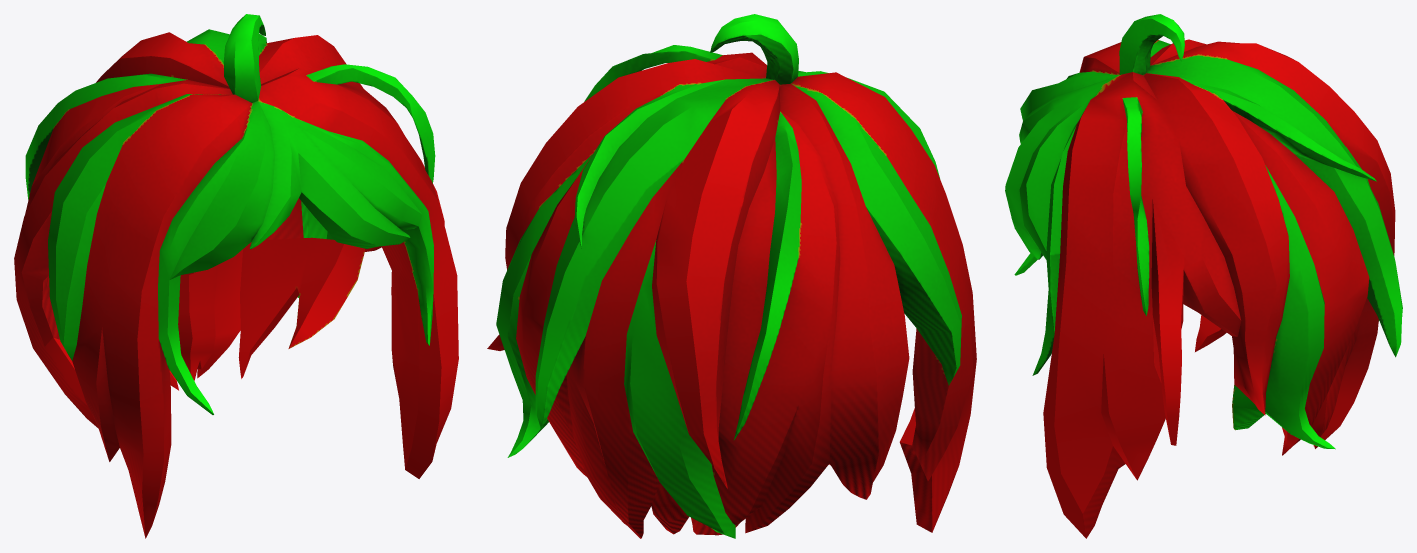
File: SM_Player_Hair_GirlManga.glb
3 renders of one model, left to right at view 1: azimuth 30°, elevation 25°; view 2: azimuth 150°, elevation 25°; view 3: azimuth 270°, elevation 25°, orthographic. The views are drawn at different scales.
Visible parts, largest first — view 1: SM_Player_Hair_GirlManga; view 2: SM_Player_Hair_GirlManga; view 3: SM_Player_Hair_GirlManga.
Boxes of the visible parts, bbox=[...] form: SM_Player_Hair_GirlManga: bbox=[14, 14, 458, 538]; SM_Player_Hair_GirlManga: bbox=[487, 14, 976, 538]; SM_Player_Hair_GirlManga: bbox=[1005, 14, 1402, 538].
Size of the model in its own units: 0.4817 by 0.5488 by 0.4325.
Materials: 1 (1 with a texture image).
